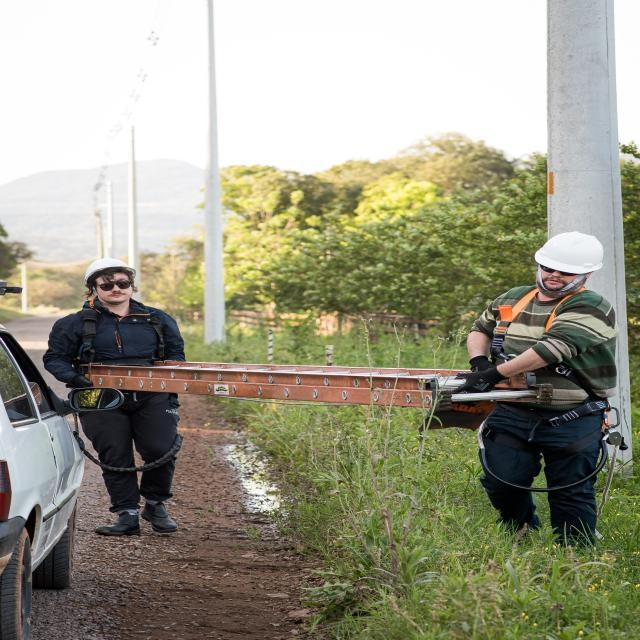Arnes_seguridad: (481, 283, 632, 461), (63, 302, 187, 427)
